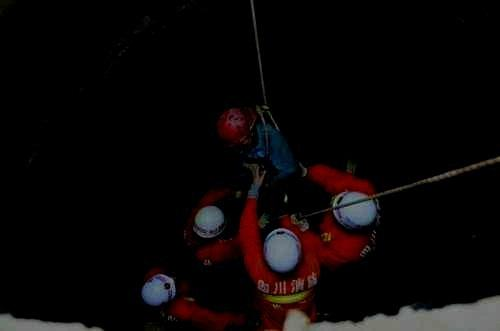helmet: (330, 189, 377, 230), (216, 105, 257, 150), (262, 228, 302, 273), (191, 206, 227, 239), (141, 274, 176, 307)
